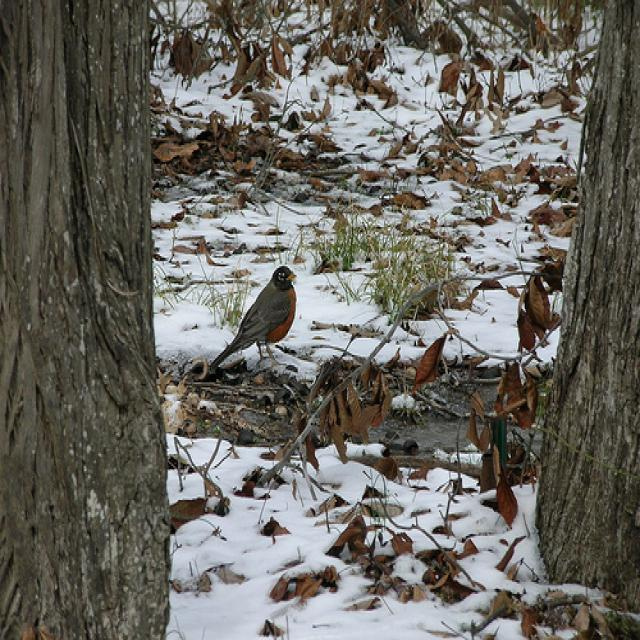bird: (207, 266, 298, 385)
